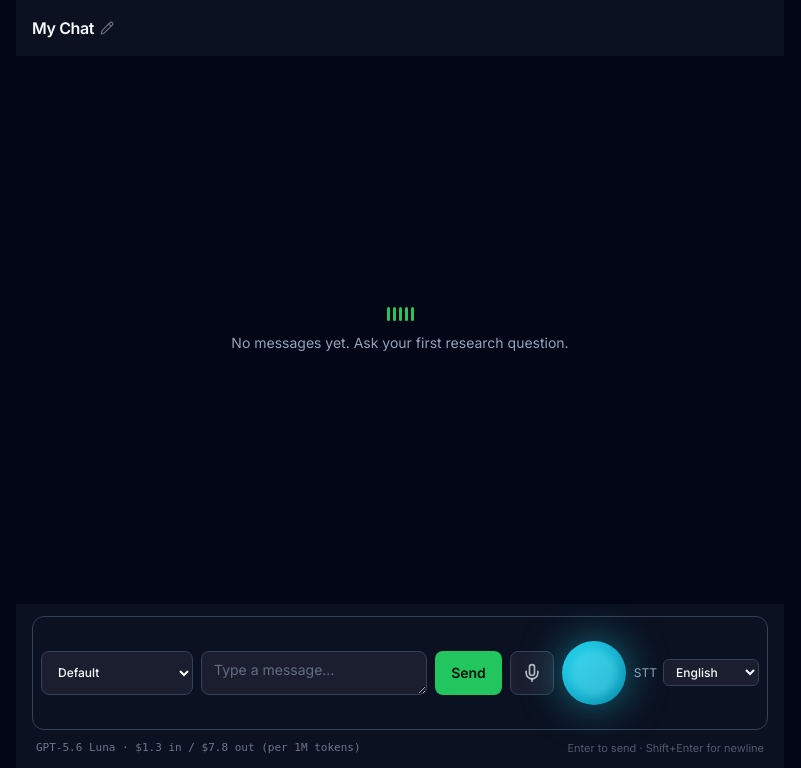
ConversationView title editing › switches to input on click
This screenshot has width=801, height=768.
Click the heading "My Chat": (73, 28) [32, 16, 114, 40]
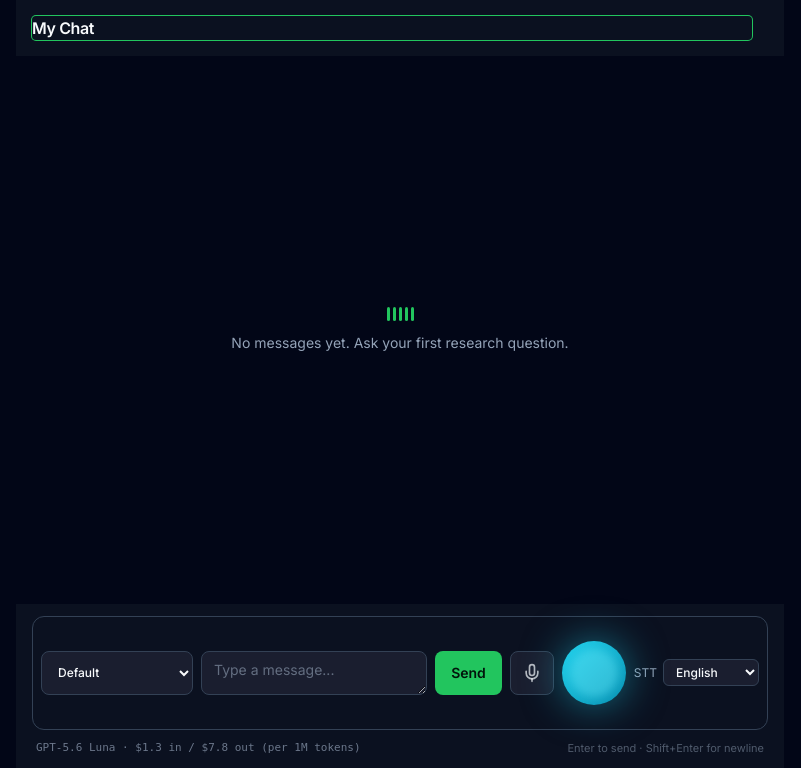
Expected: the field named "conversation title" is shown, [32, 16, 752, 40]
